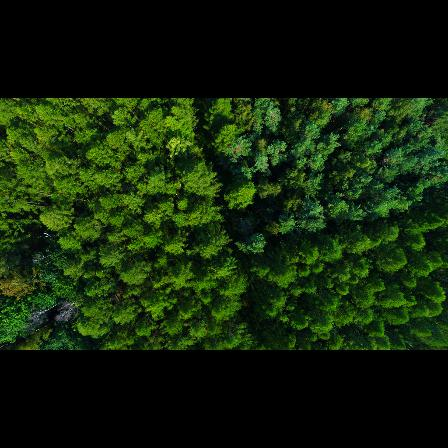Dead: (53, 300, 81, 323), (28, 305, 51, 326)
